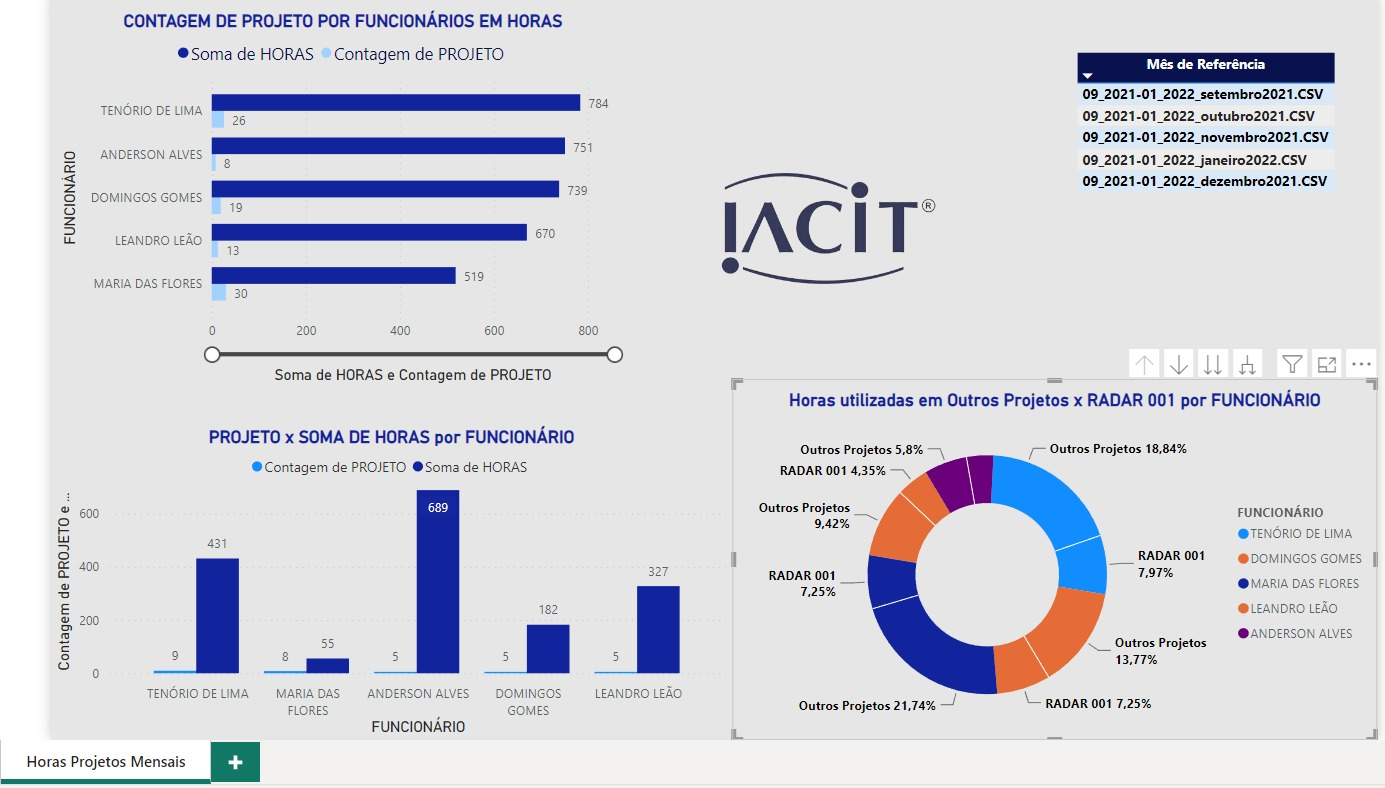

What the dashboard file says about the page in this screenshot:
{"tool":"powerbi","page":{"name":"DETALHAMENTO PROJETOS","canvas":[1280,720],"ordinal":2},"visuals":[{"type":"clusteredBarChart","title":"HORAS X QTD PROJETOS","fields":{"Category":["CONSOLIDADO ATIVIDADES.Funcionário"],"Y":["Sum(CONSOLIDADO ATIVIDADES.Horas)","CountNonNull(CONSOLIDADO ATIVIDADES.Projeto)"]},"box":[431.3,19.8,831.5,311],"z":0},{"type":"donutChart","title":"HORAS RADAR 001 X OUTROS PROJETOS","fields":{"Category":["CONSOLIDADO ATIVIDADES.Funcionário","REL DIÁRIO - HRS.Funcionário","REL DIÁRIO - HRS.Projeto"],"Y":["Sum(CONSOLIDADO ATIVIDADES.Horas)","Sum(REL DIÁRIO - HRS.Horas)"]},"box":[442.4,369.3,820.4,327.2],"z":1000},{"type":"slicer","fields":{"Values":["CONSOLIDADO ATIVIDADES.Mês.Variation.Hierarquia de datas.Mês"]},"box":[7.4,307.3,380.4,123.9],"z":2000},{"type":"image","box":[13.6,19.8,369.3,268.9],"z":3000}]}

Visuals, with their boxes on the page's 1280x720 design canvas (x1, y1, x2, y2). These are canvas units, not pixel positions in the 1385x788 screenshot, which may show the page scaled, cropped or inside an application window:
"HORAS X QTD PROJETOS" clusteredBarChart: <box>431,20,1263,331</box>
"HORAS RADAR 001 X OUTROS PROJETOS" donutChart: <box>442,369,1263,696</box>
slicer - CONSOLIDADO ATIVIDADES.Mês.Variation.Hierarquia de datas.Mês: <box>7,307,388,431</box>
image: <box>14,20,383,289</box>
